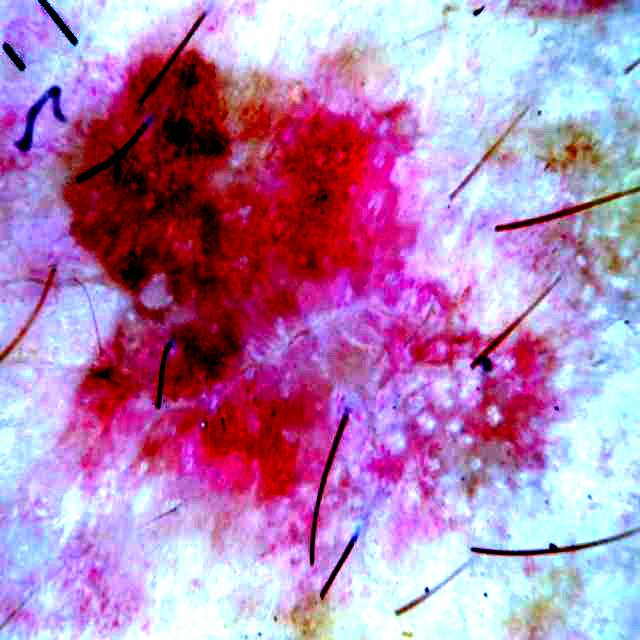AKIEC: (85, 36, 537, 527)
